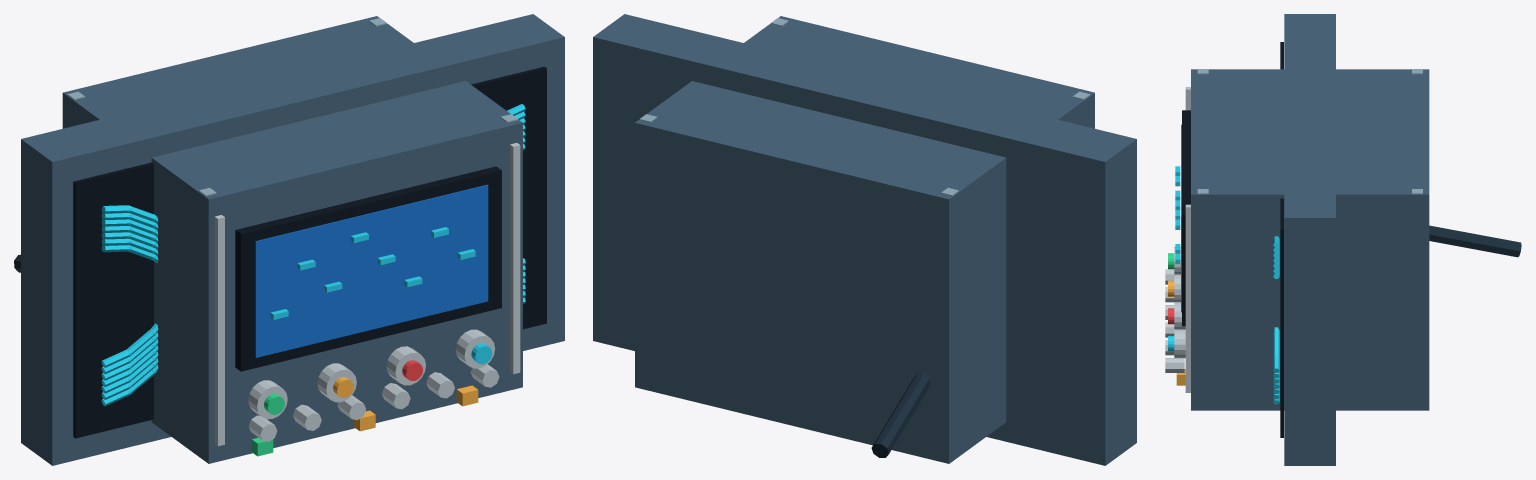
File: 40_L80_ClockAndDataRecoveryModule.fbx
3 views of the same model, side by side, from view 1: azimuth 30°, elevation 25°; view 2: azimuth 150°, elevation 25°; view 3: azimuth 270°, elevation 25° (orthographic). The views are drawn at different scales.
Parts seen in each view (by area): view 1: ClockAndDataRecoveryModule, ClockAndDataRecoveryModule_Part_0035, ClockAndDataRecoveryModule_Part_0036; view 2: ClockAndDataRecoveryModule, ClockAndDataRecoveryModule_Part_0035; view 3: ClockAndDataRecoveryModule, ClockAndDataRecoveryModule_Part_0035, ClockAndDataRecoveryModule_Part_0036.
Boxes of the visible parts, x1=… form: ClockAndDataRecoveryModule: x1=14, y1=16, x2=522, y2=463; ClockAndDataRecoveryModule_Part_0035: x1=21, y1=14, x2=564, y2=465; ClockAndDataRecoveryModule_Part_0036: x1=73, y1=66, x2=546, y2=438; ClockAndDataRecoveryModule: x1=635, y1=16, x2=1094, y2=463; ClockAndDataRecoveryModule_Part_0035: x1=593, y1=14, x2=1136, y2=465; ClockAndDataRecoveryModule: x1=1165, y1=69, x2=1521, y2=410; ClockAndDataRecoveryModule_Part_0035: x1=1284, y1=14, x2=1335, y2=465; ClockAndDataRecoveryModule_Part_0036: x1=1280, y1=42, x2=1283, y2=437.
Bounding box in the file's own units: 150 × 85 × 111.
